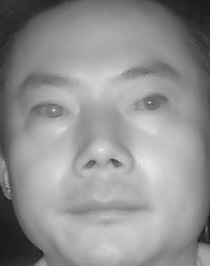eye: (29, 98, 78, 127), (129, 89, 173, 117)
mouth: (67, 185, 149, 232)
